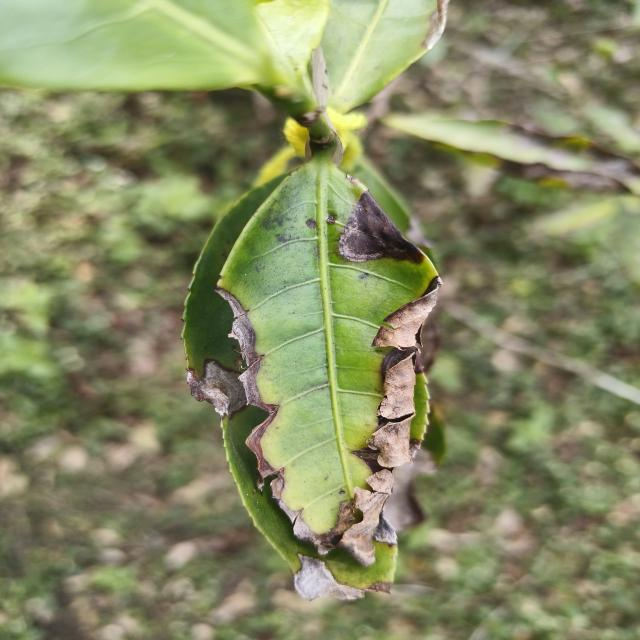Leaf: (217, 151, 441, 568), (0, 0, 293, 91), (382, 113, 640, 194), (321, 0, 448, 113)
